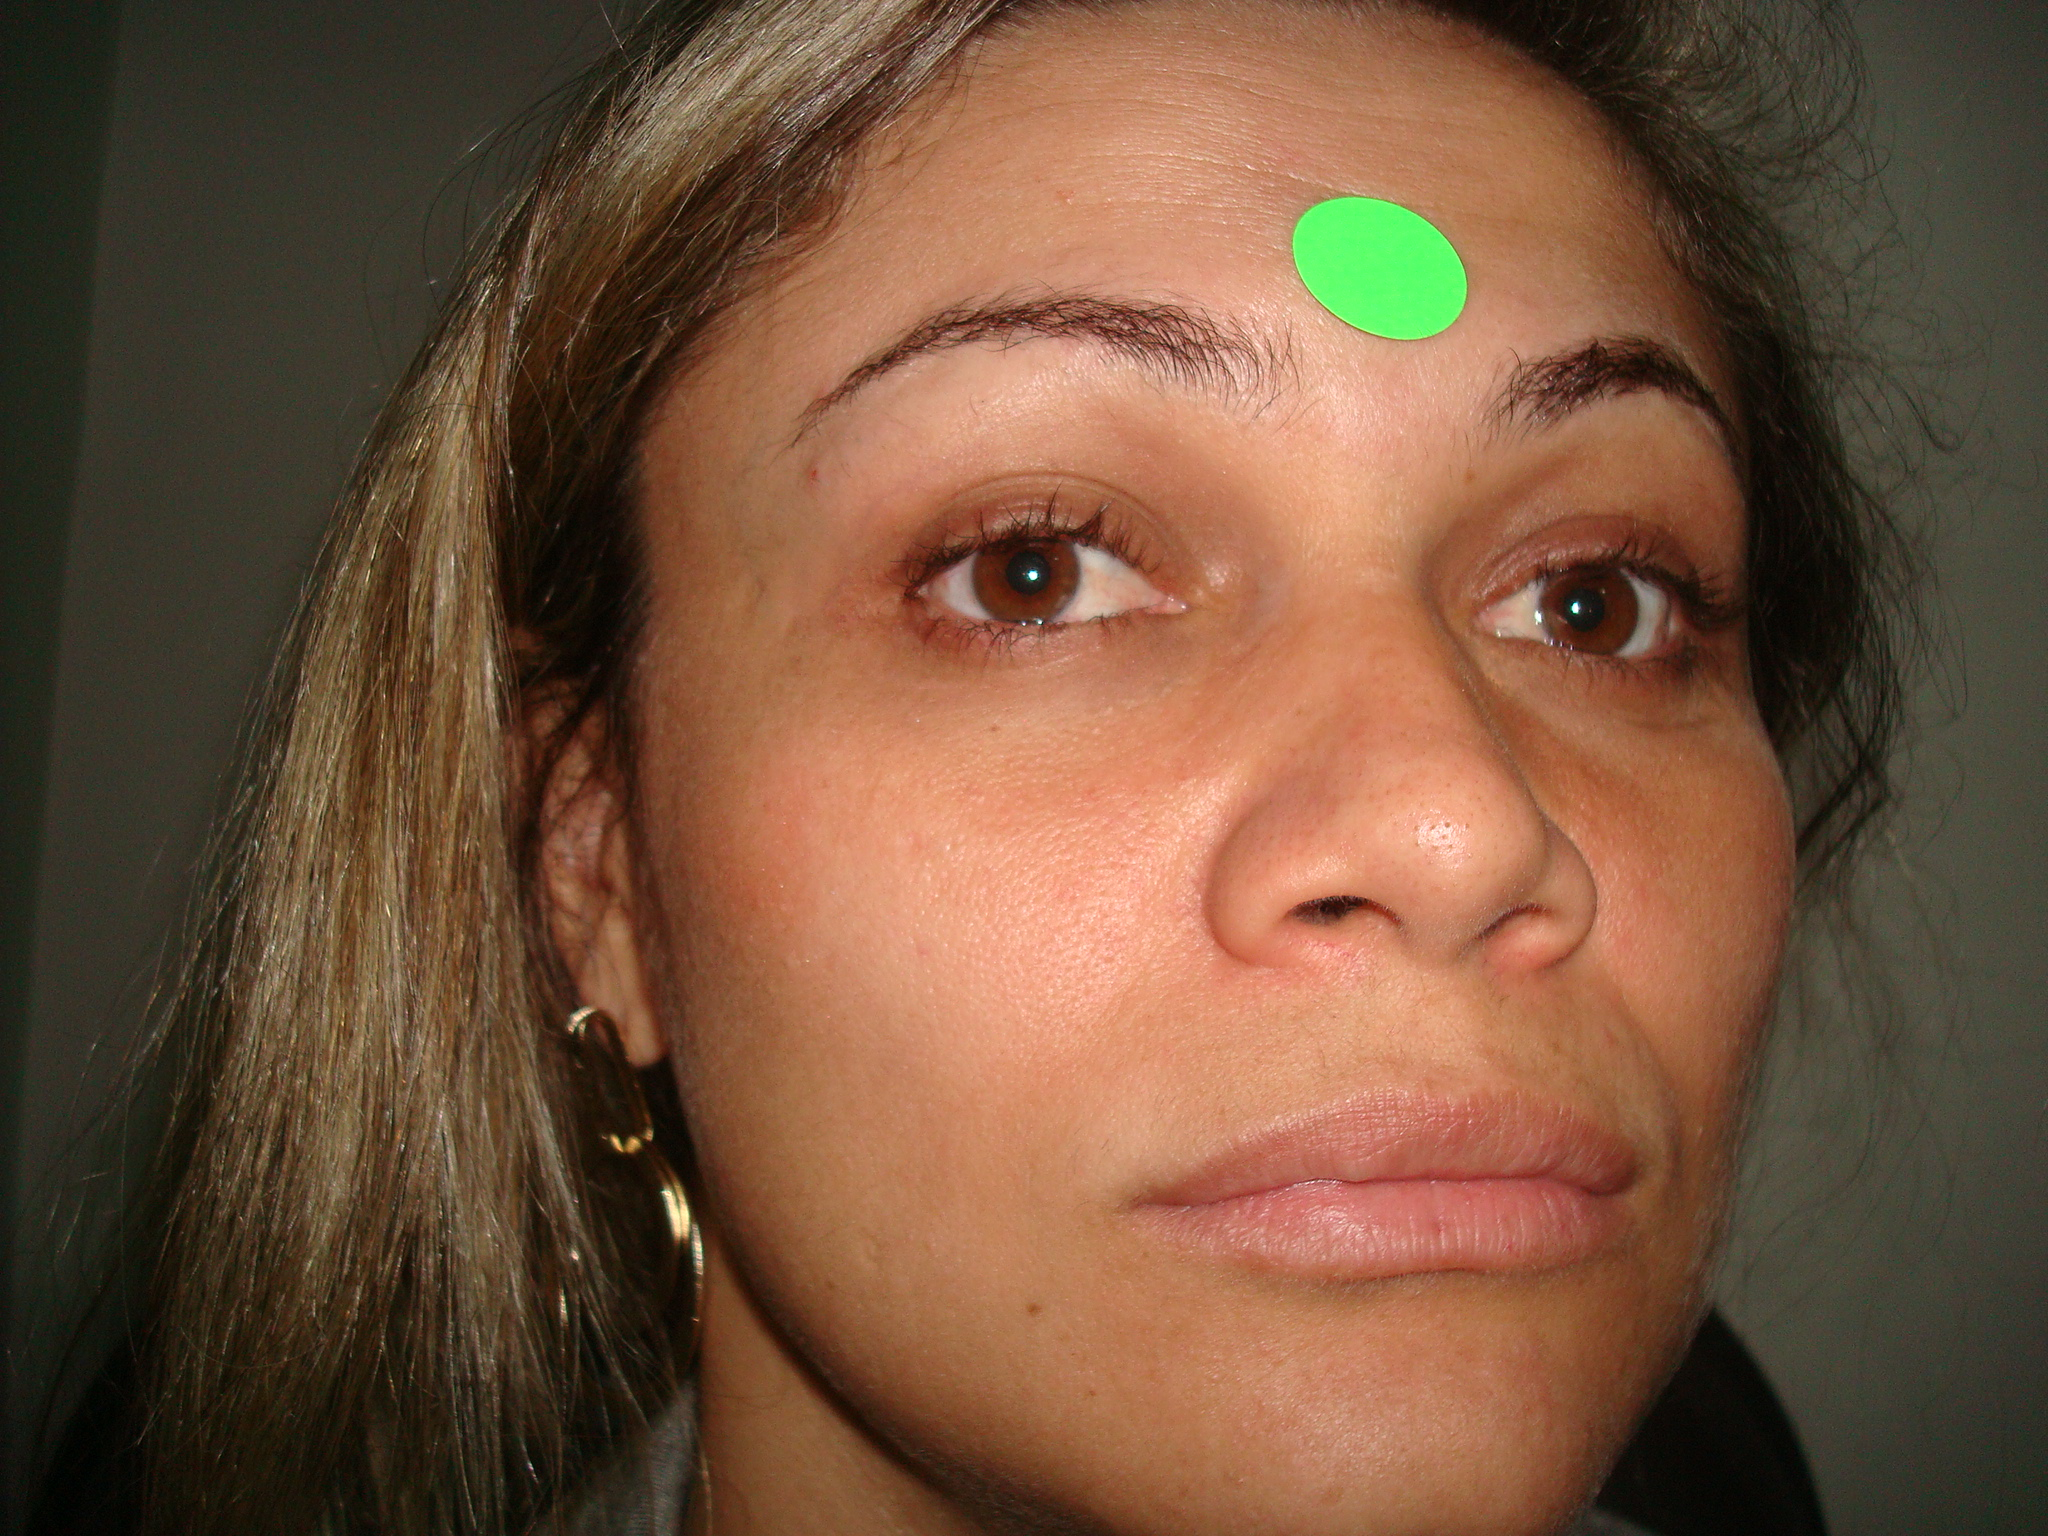flash: (1027, 568, 1040, 582), (1571, 602, 1580, 615)
limbo: (971, 524, 1082, 623), (1530, 561, 1638, 660)
